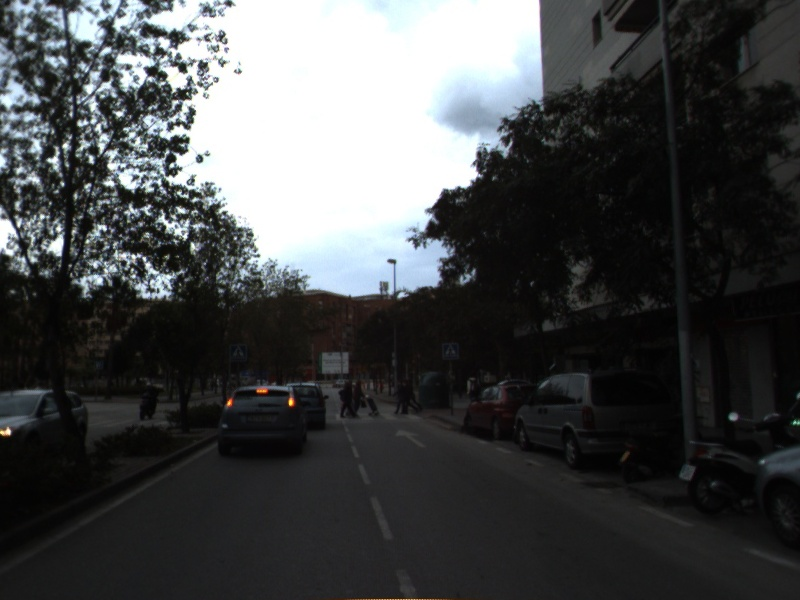STRAIGHT: (394, 427, 430, 450)
